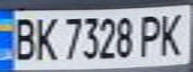2: (97, 14, 118, 61)
3: (78, 14, 100, 61)
7: (60, 14, 81, 62)
8: (115, 12, 139, 60)
B: (9, 14, 39, 62)
K: (154, 9, 190, 57), (30, 14, 57, 62)
P: (136, 11, 166, 58)
